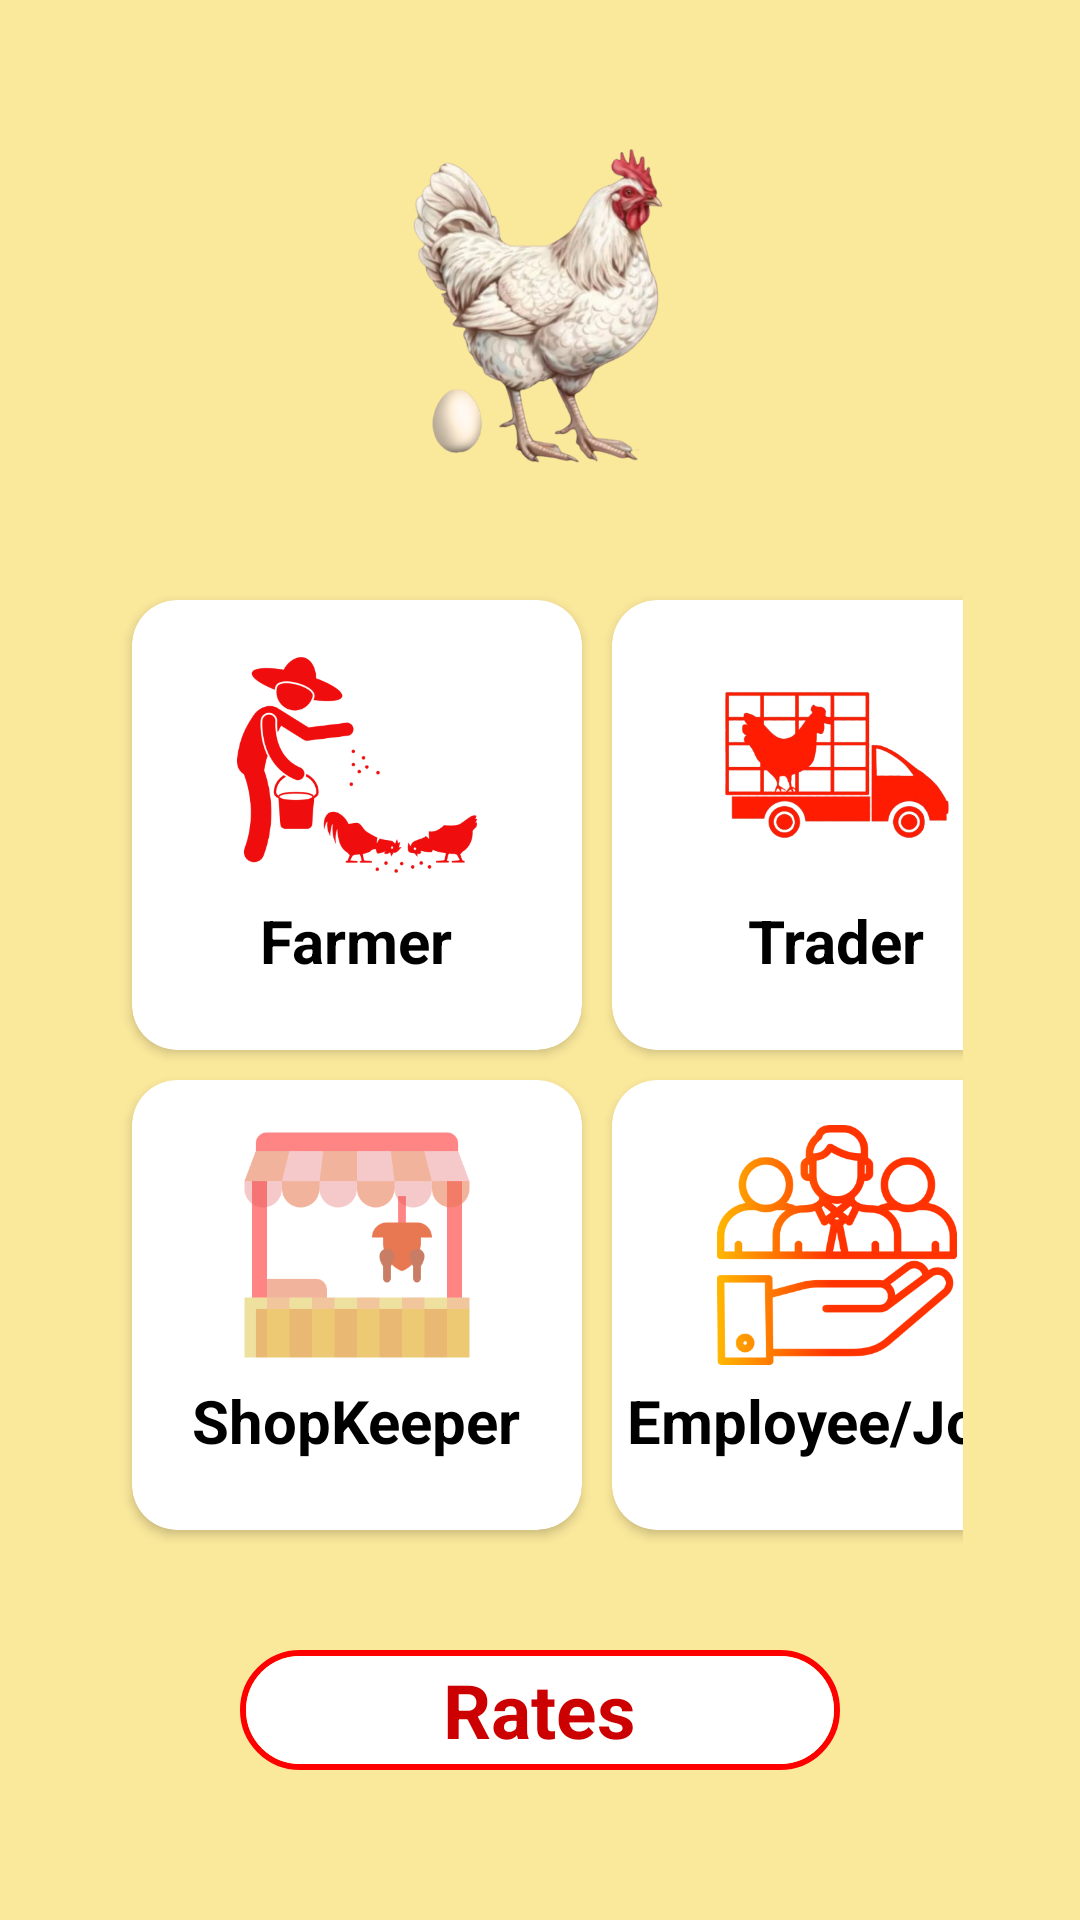

Named icons in this screenshot (1080w x 1920h) and their centers, (x=x, y=y):
recruitment: (x=837, y=1245)
